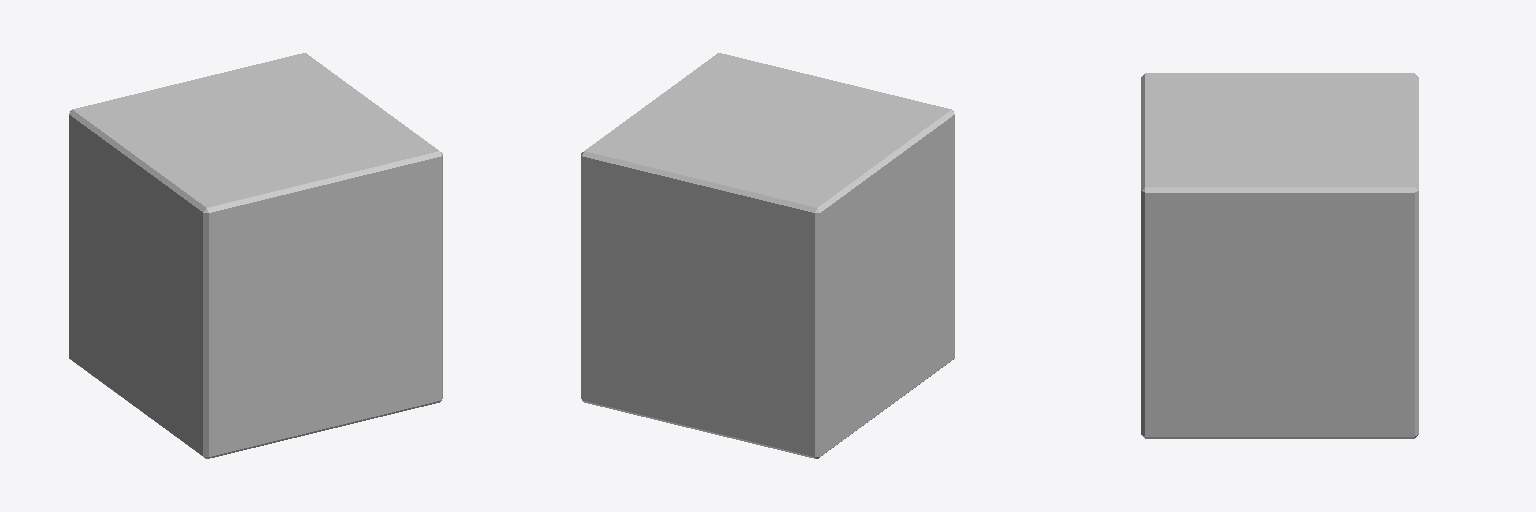
The model's file is CardboardBox.obj.
3 renders of one model, left to right at view 1: azimuth 30°, elevation 25°; view 2: azimuth 150°, elevation 25°; view 3: azimuth 270°, elevation 25°, orthographic.
Visible parts, largest first — view 1: Box072; view 2: Box072; view 3: Box072.
Boxes of the visible parts, x1=… form: Box072: x1=69, y1=53, x2=442, y2=458; Box072: x1=581, y1=53, x2=954, y2=458; Box072: x1=1141, y1=73, x2=1418, y2=438.
Size of the model in its own units: 35.89 by 35.89 by 35.89.